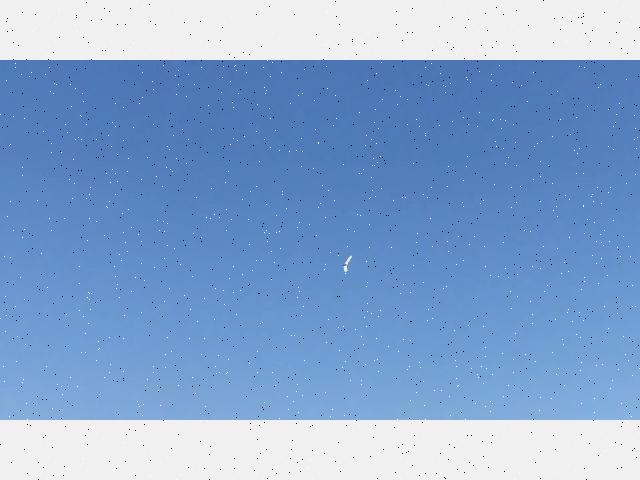Anti-Drone: (332, 250, 364, 278)
